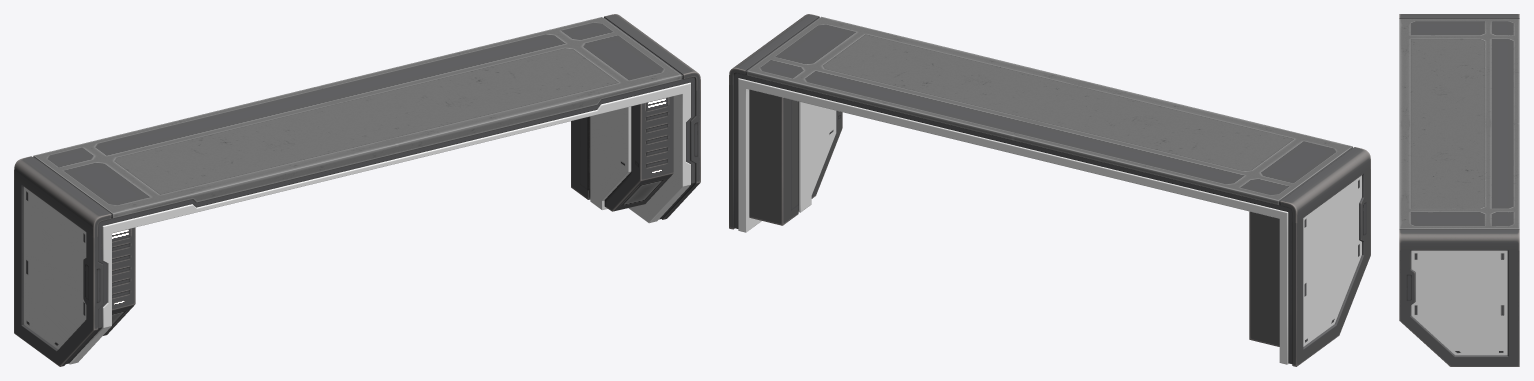
File: RepairTable01_1.FBX
3 renders of one model, left to right at view 1: azimuth 30°, elevation 25°; view 2: azimuth 150°, elevation 25°; view 3: azimuth 270°, elevation 25°, orthographic. The views are drawn at different scales.
Parts seen in each view (by area): view 1: RepairTable01_1; view 2: RepairTable01_1; view 3: RepairTable01_1.
Boxes of the visible parts, bbox=[...] form: RepairTable01_1: bbox=[14, 14, 700, 366]; RepairTable01_1: bbox=[729, 14, 1370, 366]; RepairTable01_1: bbox=[1399, 14, 1519, 366].
Size of what is drawn, in the model's own units: 3.3 by 0.9 by 0.75.
